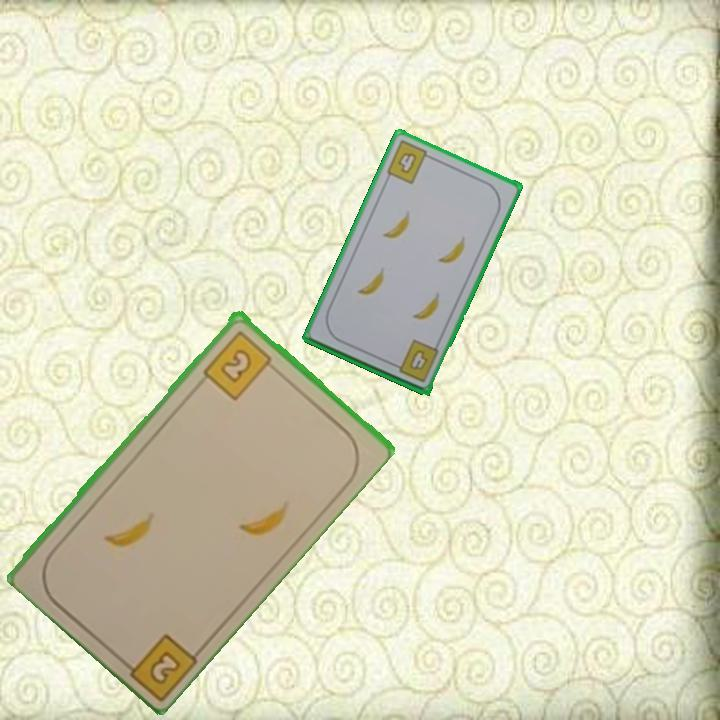2b: (199, 326, 280, 403), (115, 629, 201, 700)
4b: (383, 137, 436, 187), (389, 336, 441, 385)
